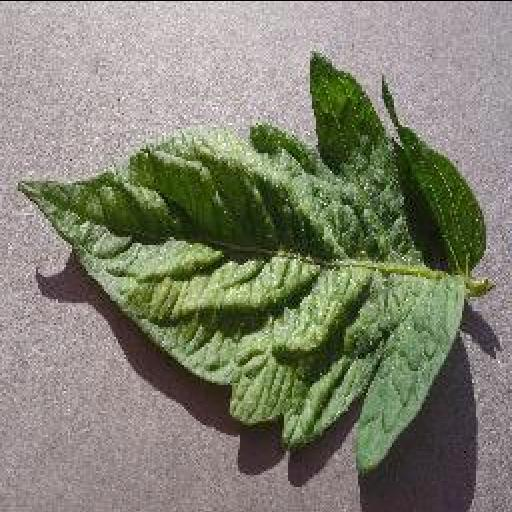disease_tomato: (13, 52, 487, 472)
